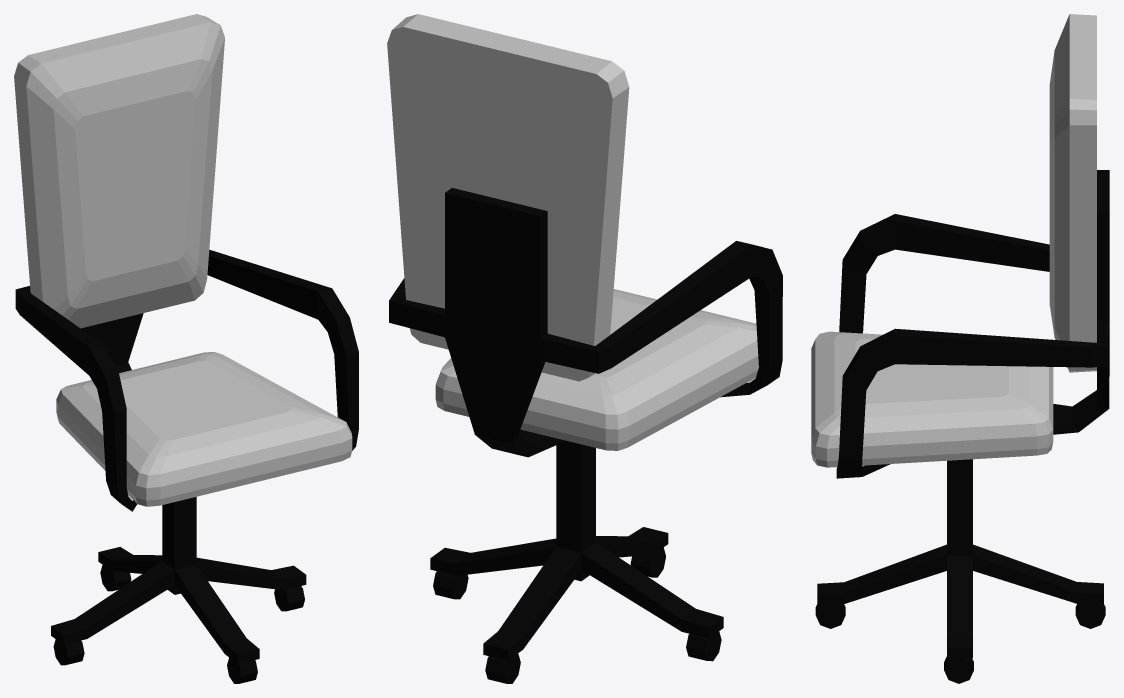
The model's file is H_Chair_Doctor.fbx.
3 renders of one model, left to right at view 1: azimuth 30°, elevation 25°; view 2: azimuth 150°, elevation 25°; view 3: azimuth 270°, elevation 25°, orthographic. The views are drawn at different scales.
Parts seen in each view (by area): view 1: H_Chair_Doctor; view 2: H_Chair_Doctor; view 3: H_Chair_Doctor.
Boxes of the visible parts, box(x1,y1,x2,y2) form: H_Chair_Doctor: box(14, 14, 358, 683); H_Chair_Doctor: box(387, 14, 782, 683); H_Chair_Doctor: box(811, 14, 1109, 683).
Size of the model in its own units: 309 by 317 by 666.
